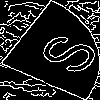S: (25, 25, 100, 78)
